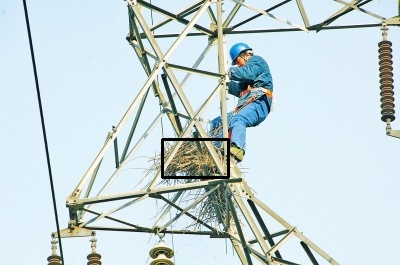bird-nest: (162, 139, 228, 177)
